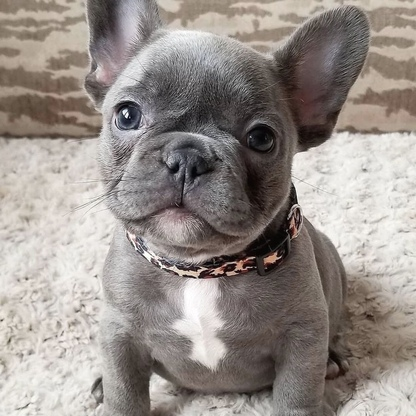bulldog: (80, 4, 377, 414)
